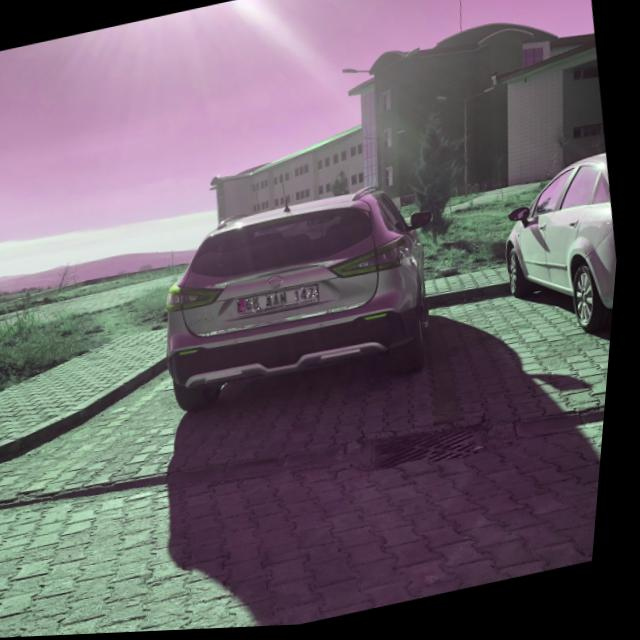license_plate: (241, 286, 324, 317)
